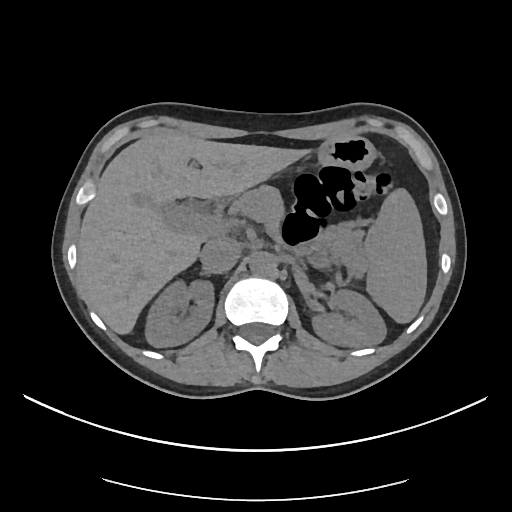Lesion: (184, 295, 203, 311)
